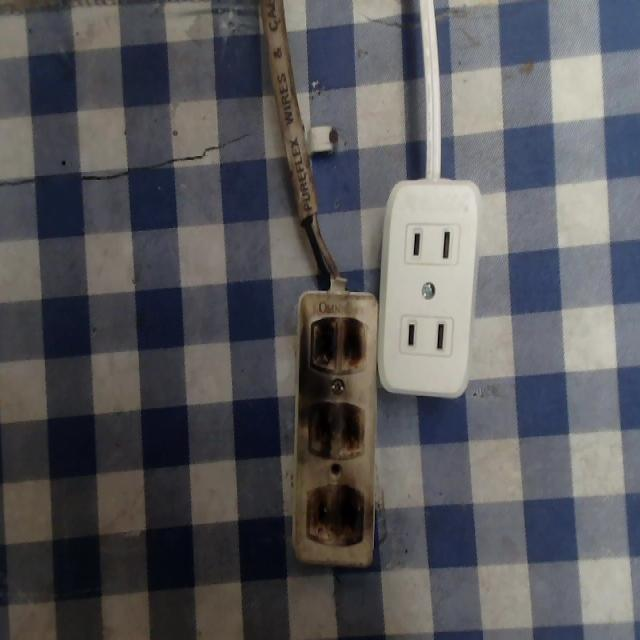-: (305, 484, 366, 560), (310, 310, 368, 374), (303, 398, 364, 458)
